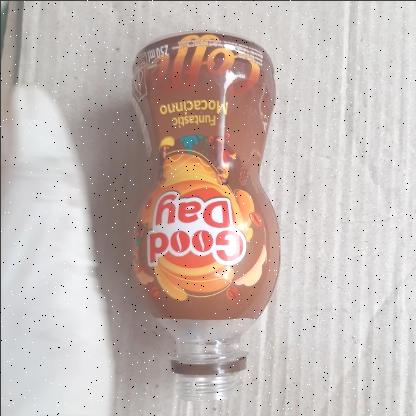Plastic Bottle: (128, 31, 276, 403)
